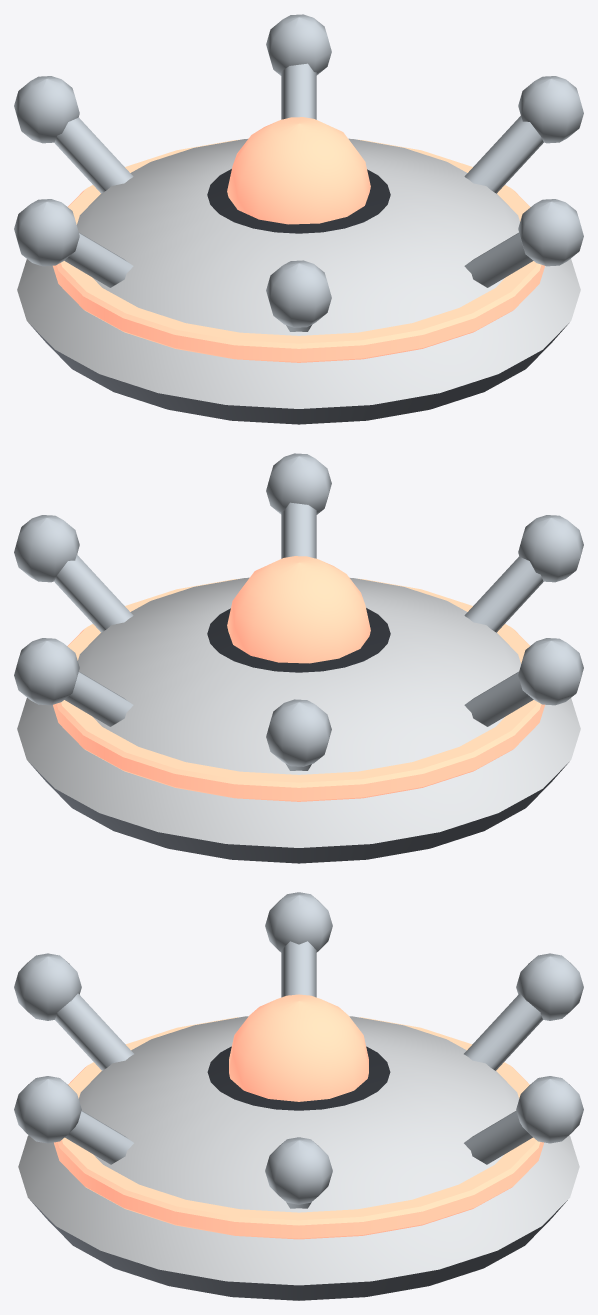
Rendered from R4D_ExplosiveTrap.fbx.
3 renders of one model, top to bottom at view 1: azimuth 30°, elevation 25°; view 2: azimuth 150°, elevation 25°; view 3: azimuth 270°, elevation 25°, orthographic.
Visible parts, largest first — view 1: R4D_ExplosiveTrap_Body, R4D_ExplosiveTrap_Lamp; view 2: R4D_ExplosiveTrap_Body, R4D_ExplosiveTrap_Lamp; view 3: R4D_ExplosiveTrap_Body, R4D_ExplosiveTrap_Lamp.
Boxes of the visible parts, x1,y1,x2,y2 form: R4D_ExplosiveTrap_Body: (14,14,583,424); R4D_ExplosiveTrap_Lamp: (227,117,370,224); R4D_ExplosiveTrap_Body: (14,453,583,863); R4D_ExplosiveTrap_Lamp: (227,556,370,663); R4D_ExplosiveTrap_Body: (14,892,583,1300); R4D_ExplosiveTrap_Lamp: (229,994,368,1101).
Bounding box in the file's own units: 0.496 × 0.16 × 0.4365.
